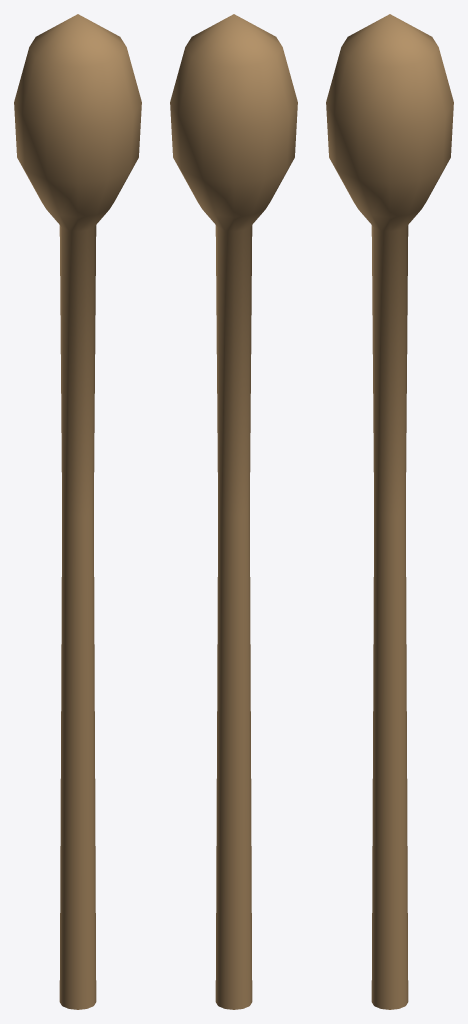
Rendered from knobkerrie.glb.
3 renders of one model, left to right at view 1: azimuth 30°, elevation 25°; view 2: azimuth 150°, elevation 25°; view 3: azimuth 330°, elevation 25°, orthographic.
Visible parts, largest first — view 1: knobkerrie; view 2: knobkerrie; view 3: knobkerrie.
Part boxes in pixels (x1,y1,x2,y2): knobkerrie: (14, 14, 141, 1009); knobkerrie: (170, 14, 297, 1009); knobkerrie: (326, 14, 453, 1009).
Size of the model in its own units: 0.21 by 1.8 by 0.21.
